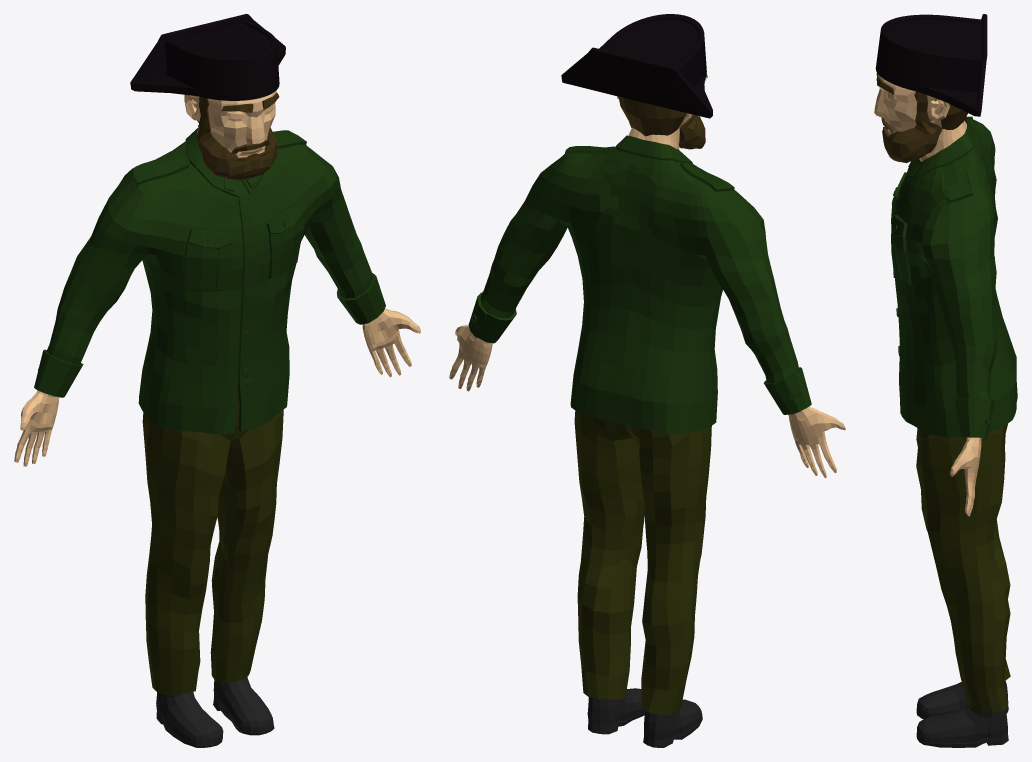
The model's file is JavierModel_FirstIteraction_NoPose.fbx.
3 views of the same model, side by side, from view 1: azimuth 30°, elevation 25°; view 2: azimuth 150°, elevation 25°; view 3: azimuth 270°, elevation 25° (orthographic). The views are drawn at different scales.
Parts seen in each view (by area): view 1: Chaqueta.004, Pants.004, Tricornio.004, Head.006, Botas.004, Barba.004; view 2: Chaqueta.004, Pants.004, Tricornio.004, Head.006, Botas.004, Pelo.004, Barba.004; view 3: Chaqueta.004, Pants.004, Tricornio.004, Botas.004, Head.006, Barba.004, Pelo.004.
Part boxes in pixels (box(x1,y1,x2,y2)): Chaqueta.004: box(34, 127, 385, 434); Pants.004: box(142, 385, 283, 695); Tricornio.004: box(130, 14, 285, 100); Head.006: box(14, 90, 420, 466); Botas.004: box(156, 676, 274, 747); Barba.004: box(197, 115, 277, 180); Chaqueta.004: box(468, 135, 811, 433); Pants.004: box(574, 410, 711, 715); Tricornio.004: box(561, 14, 712, 118); Head.006: box(449, 76, 845, 477); Botas.004: box(587, 656, 702, 747); Pelo.004: box(618, 97, 686, 136); Barba.004: box(629, 114, 705, 149); Chaqueta.004: box(891, 116, 1017, 438); Pants.004: box(916, 424, 1010, 712); Tricornio.004: box(875, 14, 987, 116); Botas.004: box(916, 681, 1008, 747); Head.006: box(874, 75, 981, 516); Barba.004: box(881, 111, 942, 162); Pelo.004: box(914, 91, 967, 129).
Bounding box in the file's own units: 921 × 1536 × 286.
